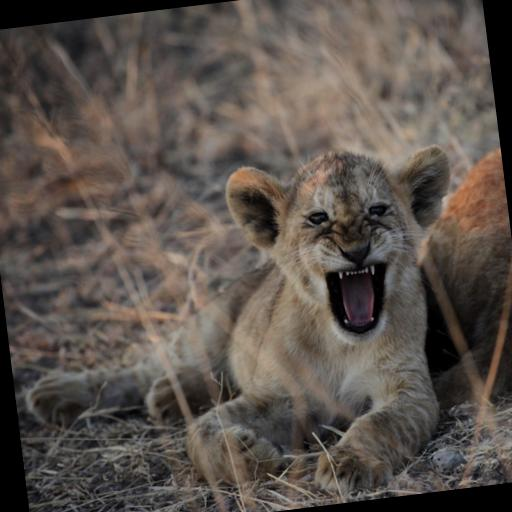lions: (0, 42, 512, 512)
